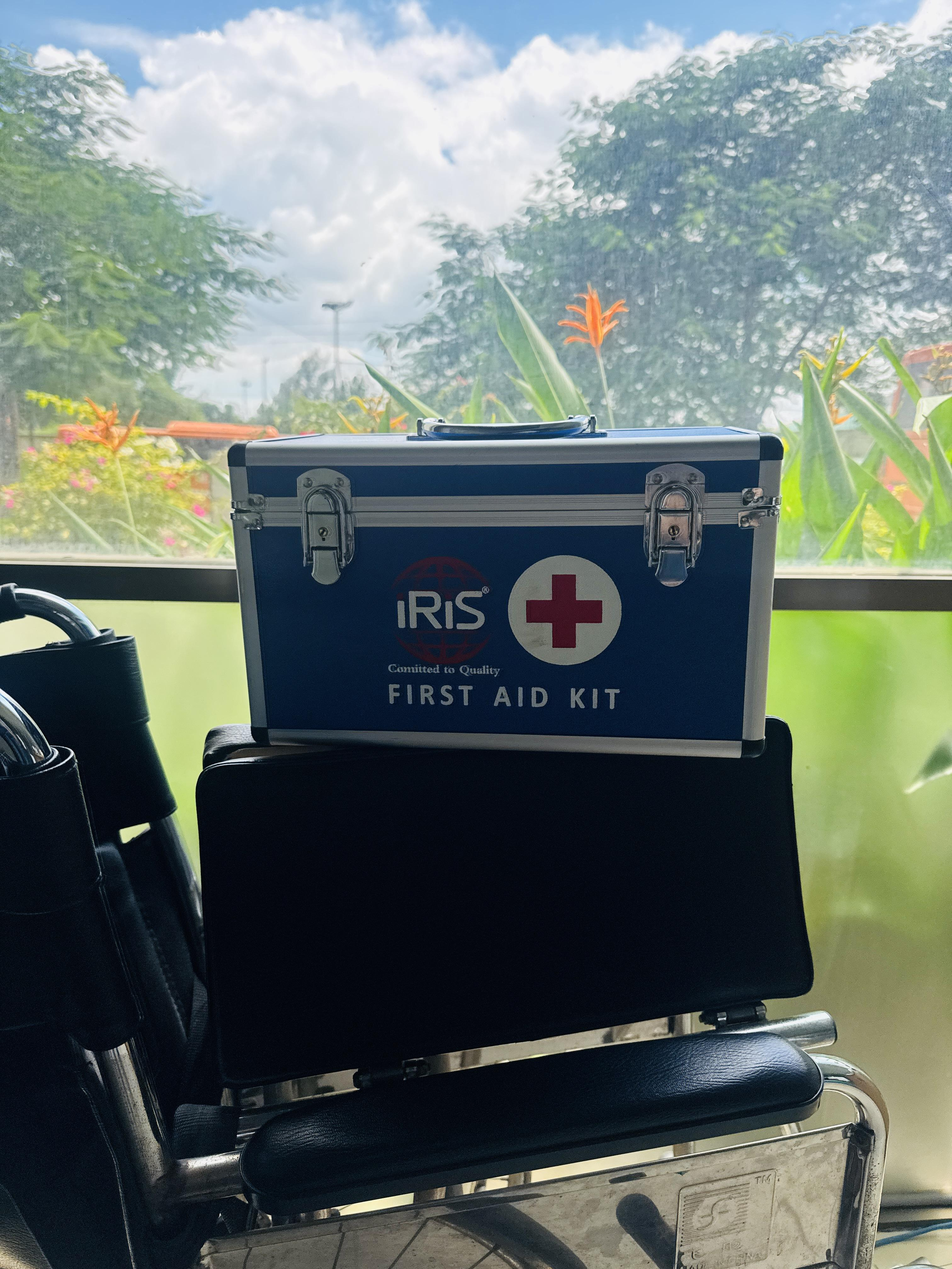FirstAidBox: (209, 402, 791, 777)
